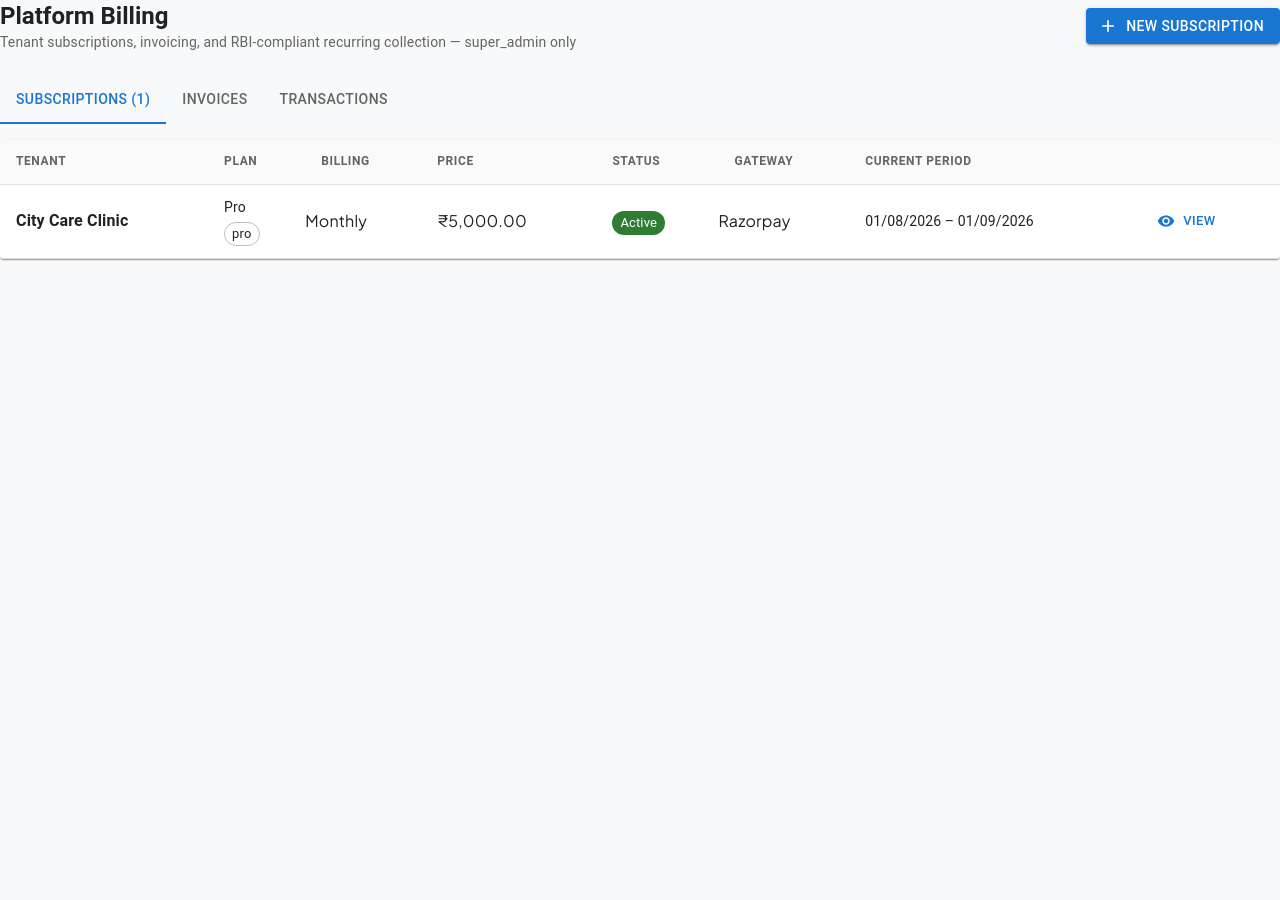
admin/PlatformBilling › submits a graceful cancel with the typed org name and reason
Expected: the text "City Care Clinic" is shown, [16, 211, 128, 230]
Click the button "View": (1187, 221) [1154, 206, 1221, 237]
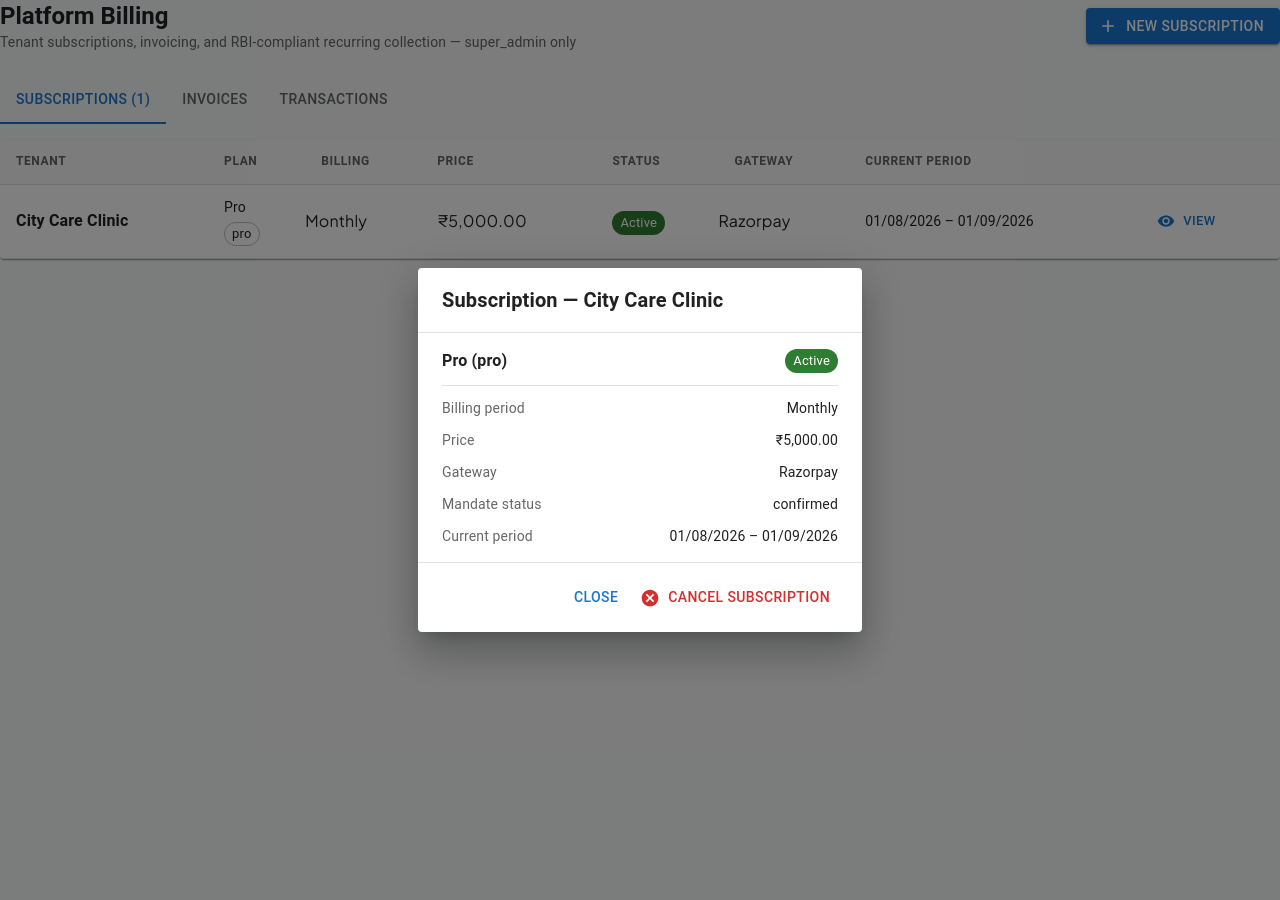
Click the button "Cancel Subscription": (737, 598) [636, 579, 838, 616]
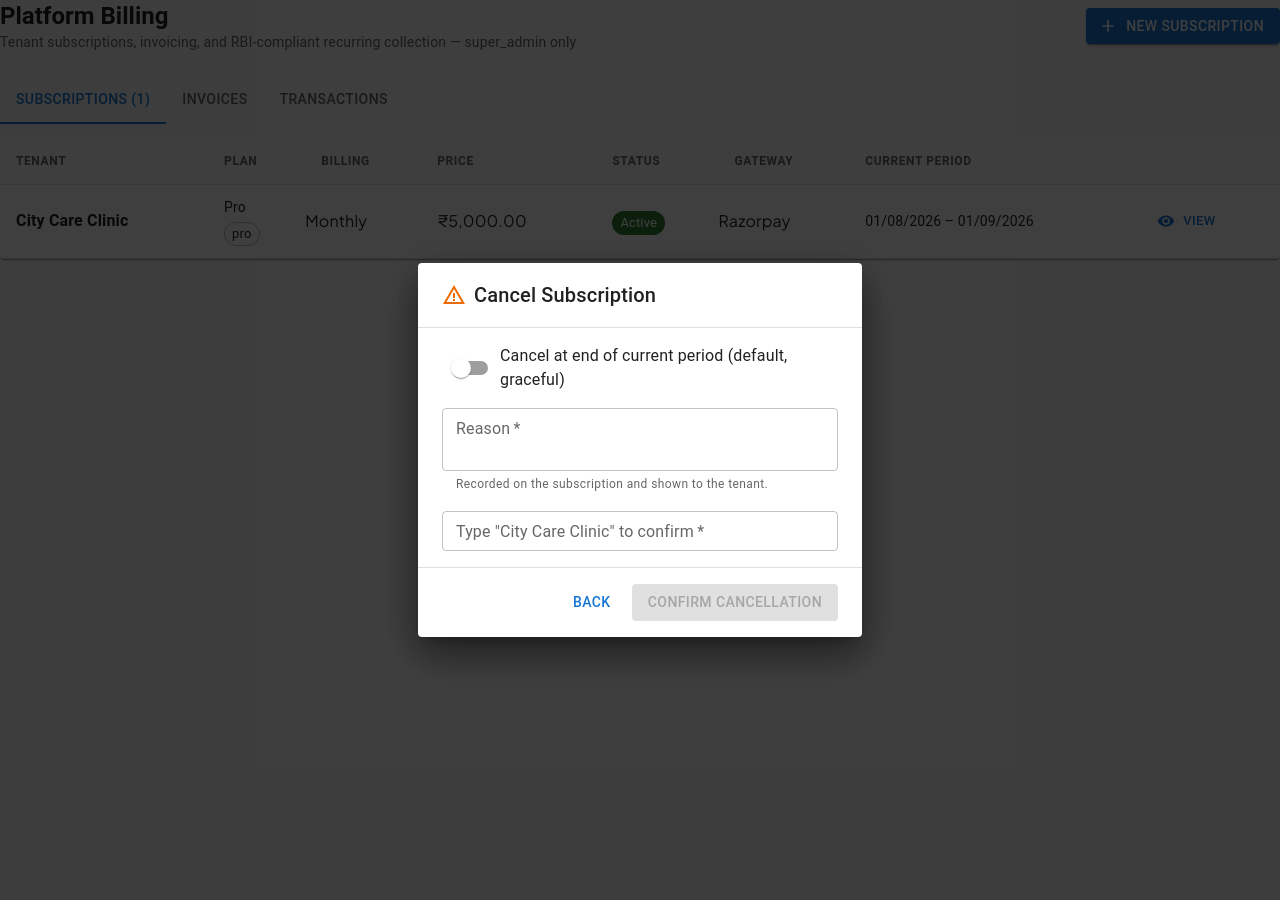
In the text box labelled "Reason *": (640, 440) [456, 417, 824, 463], type "Non-payment"
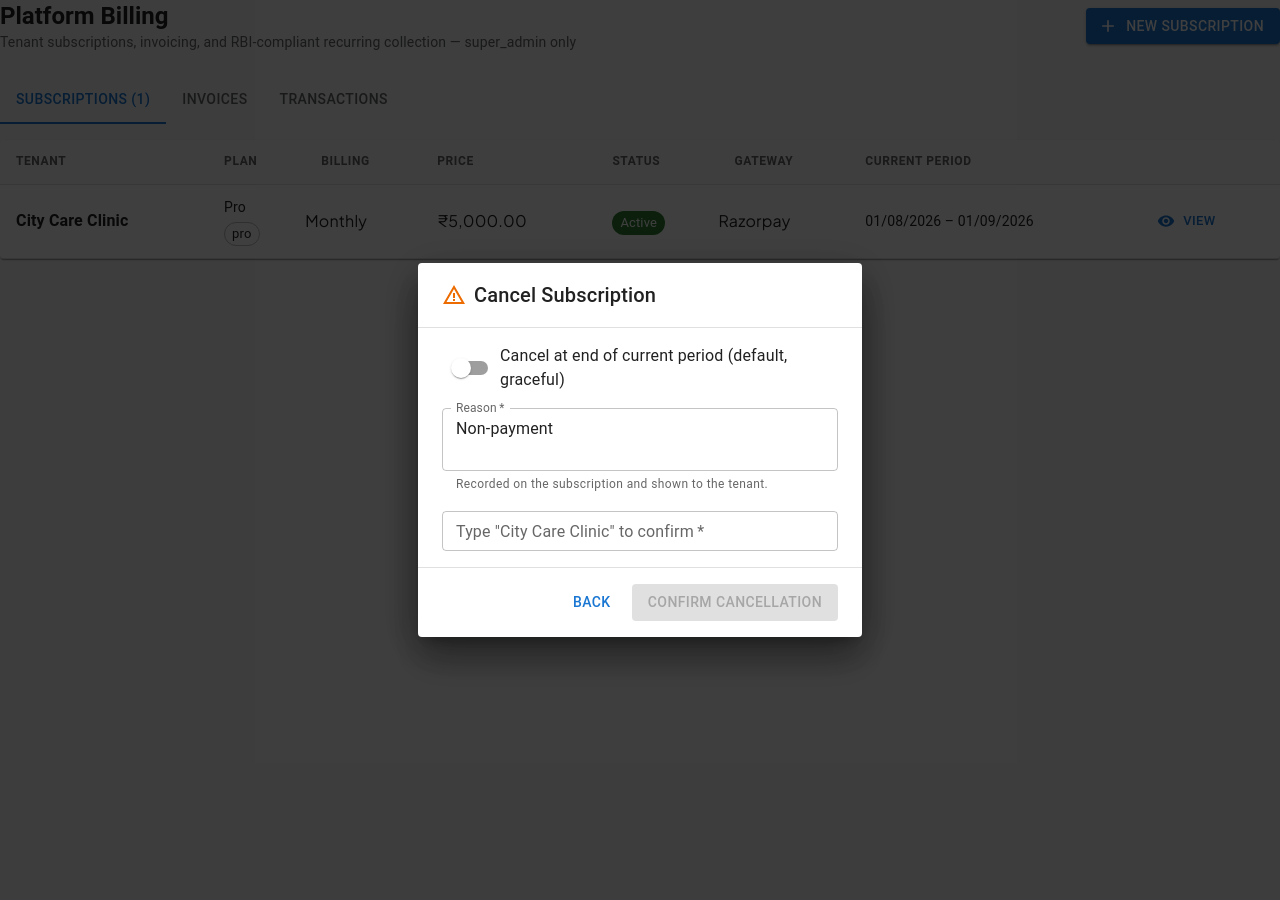
In the field labelled "Type \"City Care Clinic\" to confirm *": (640, 531) [442, 511, 838, 551], type "City Care Clinic"
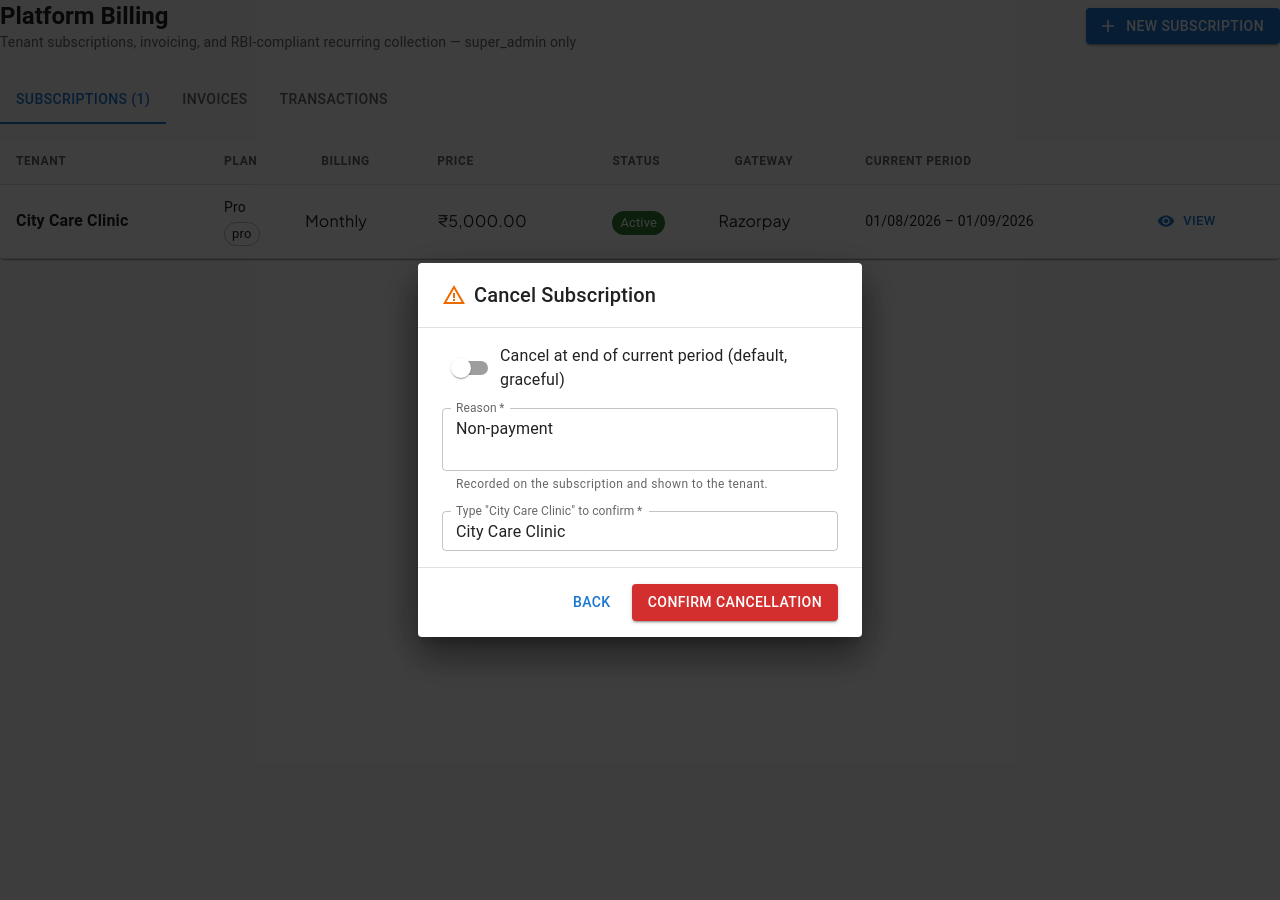
Click the button "Confirm Cancellation": (735, 602) [632, 584, 838, 621]
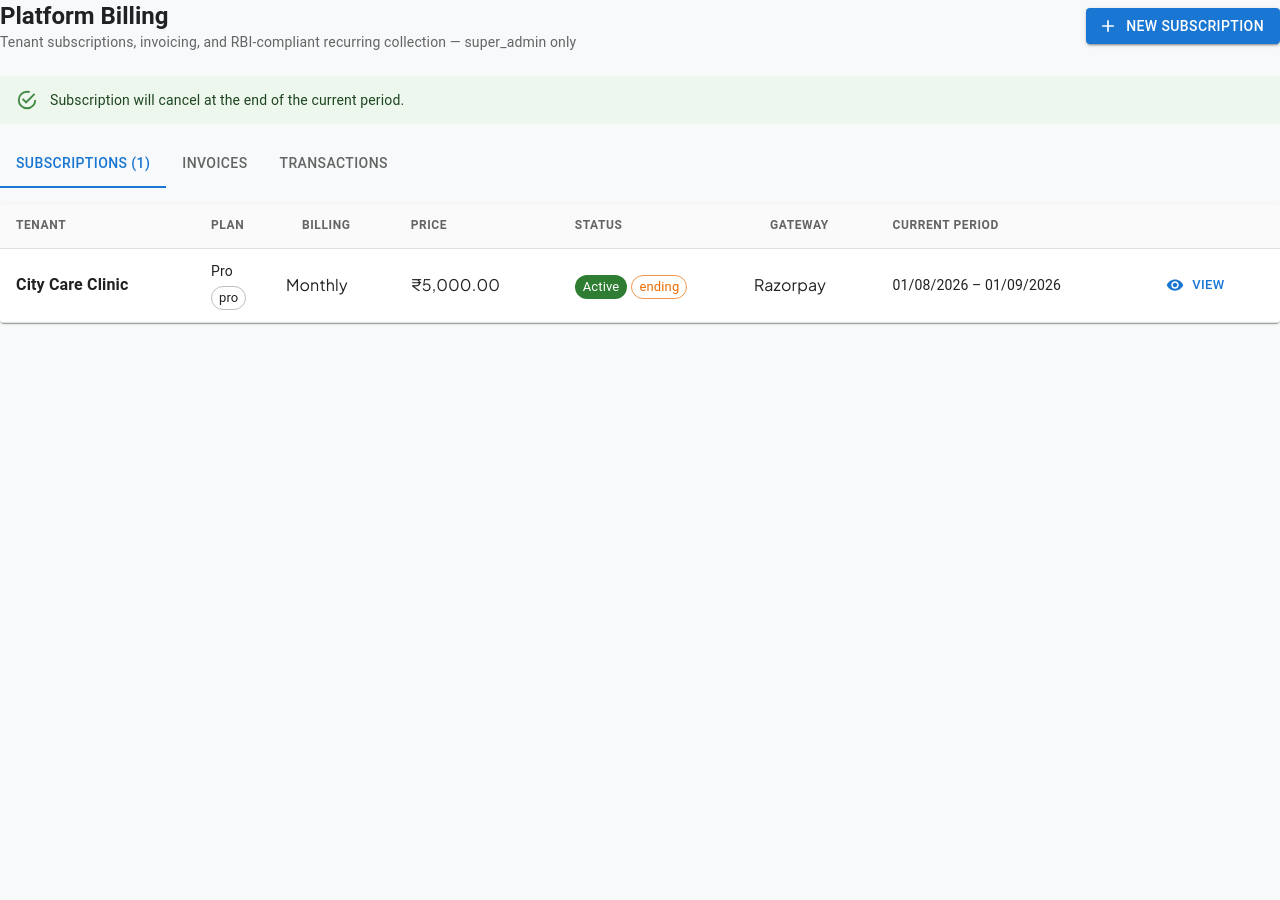
Expected: the text "Subscription will cancel at the end of the current period." is shown, [50, 92, 404, 108]
